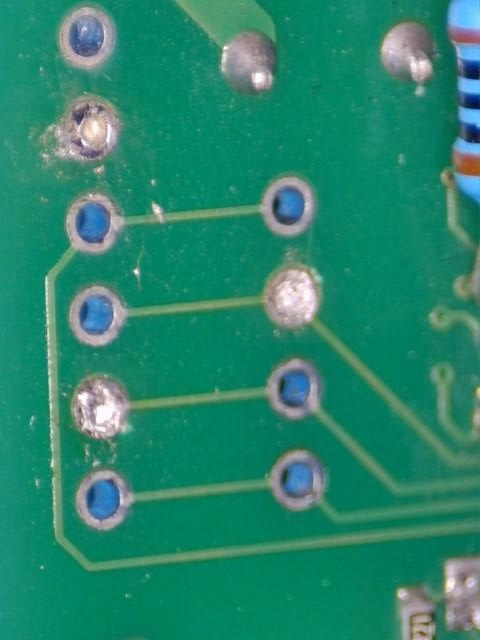pcb_defect: (72, 378, 129, 438), (268, 270, 318, 329), (68, 101, 118, 160)
